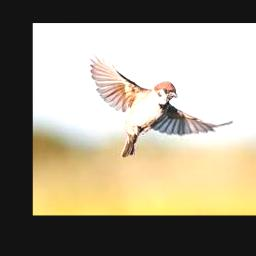Sparrow: (88, 49, 233, 157)
